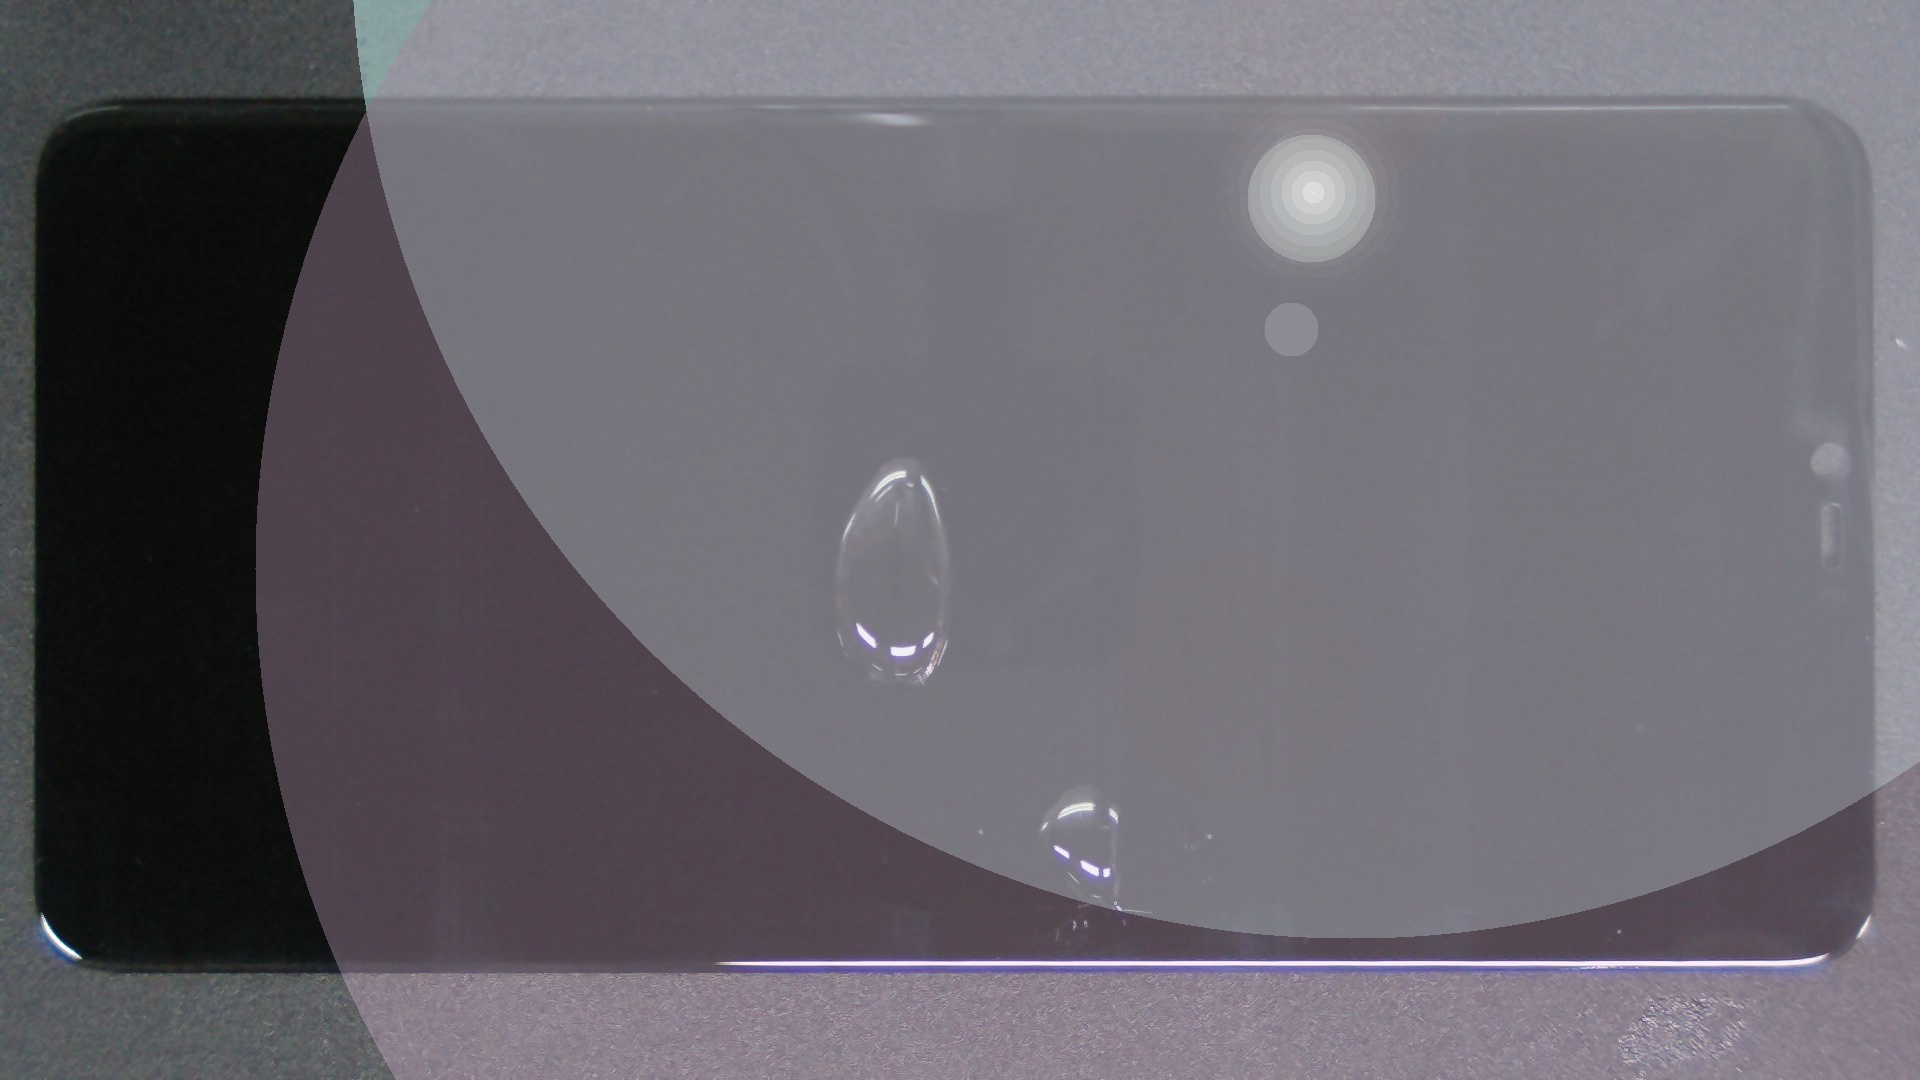oil: (541, 392, 1621, 1080), (452, 228, 1356, 684)
